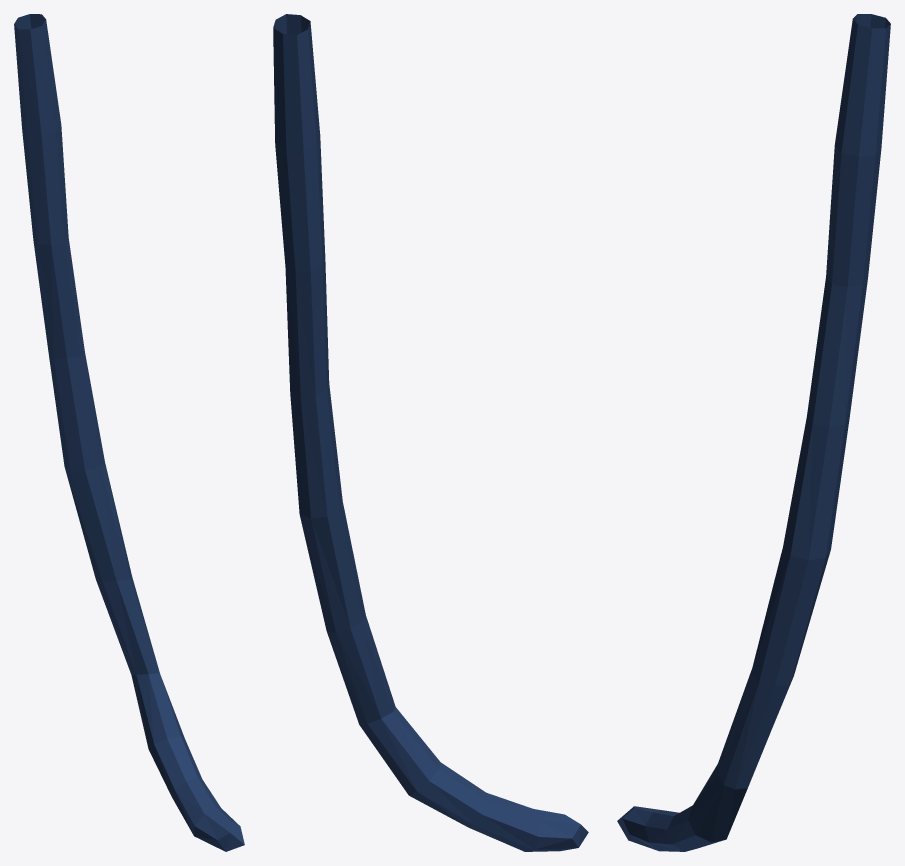
The model's file is Vena Lumbar Ascendente_2.FBX.
The picture shows the model from 3 angles, left to right: view 1: azimuth 90°, elevation 25°; view 2: azimuth 150°, elevation 25°; view 3: azimuth 270°, elevation 25°; orthographic projection. The views are drawn at different scales.
Visible parts, largest first — view 1: CS_Veins; view 2: CS_Veins; view 3: CS_Veins.
Part boxes in pixels (<box>): CS_Veins: <box>14,14,244,851</box>; CS_Veins: <box>273,14,588,851</box>; CS_Veins: <box>617,14,890,851</box>.
Size of the model in its own units: 86.56 by 368 by 101.
